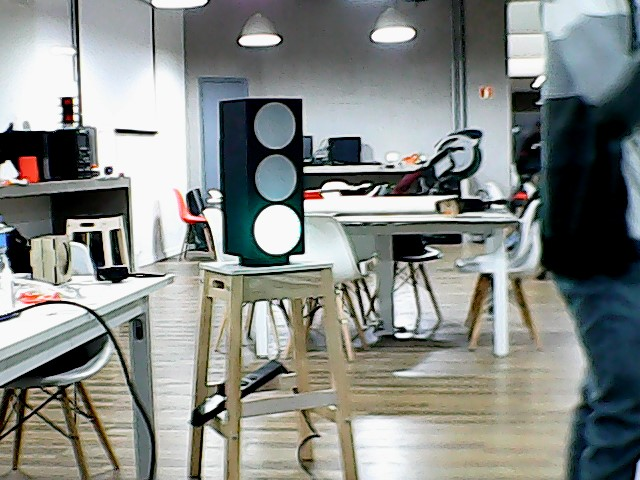verde: (212, 93, 310, 270)
